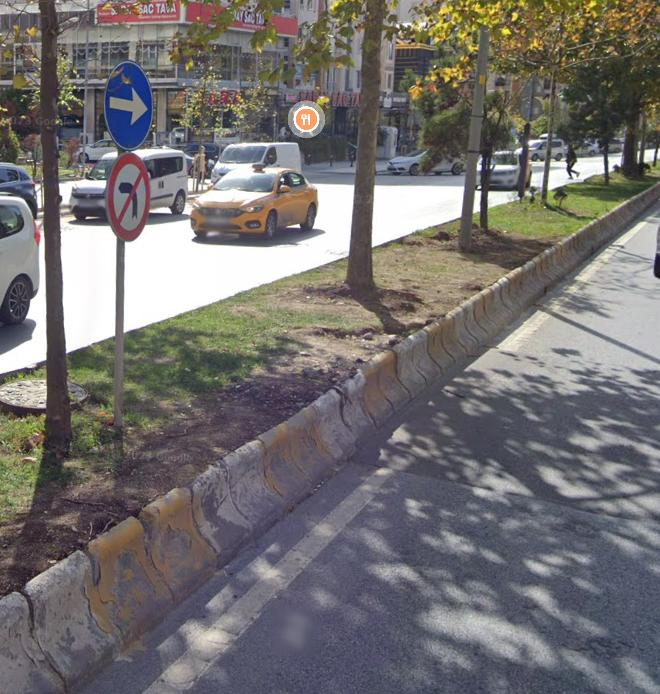leftturnsareforbidden: (111, 156, 154, 236)
turnright: (102, 62, 152, 138)
